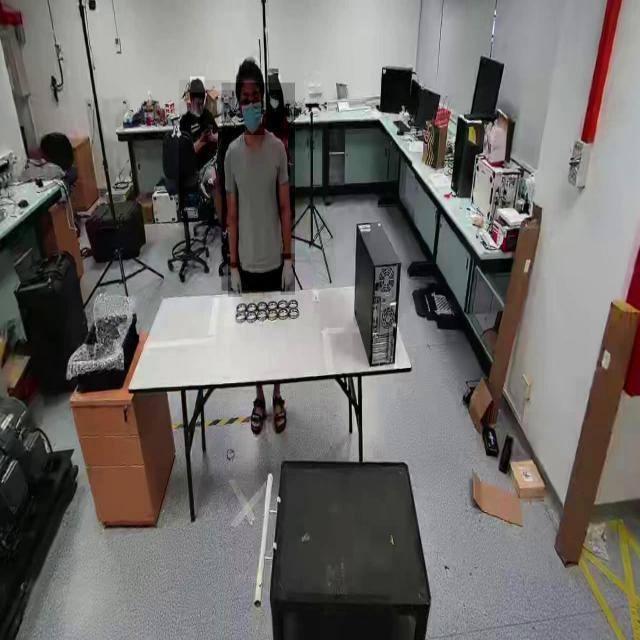gloves: (280, 253, 296, 296), (228, 262, 242, 298)
